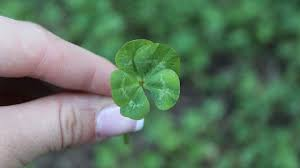4-clover: (111, 40, 182, 117)
